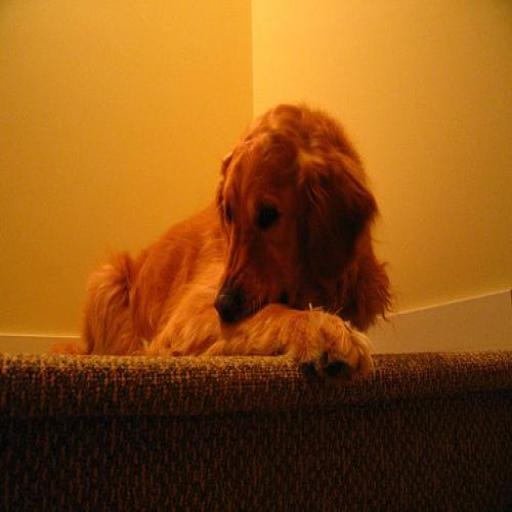dog_face: (208, 114, 359, 323)
